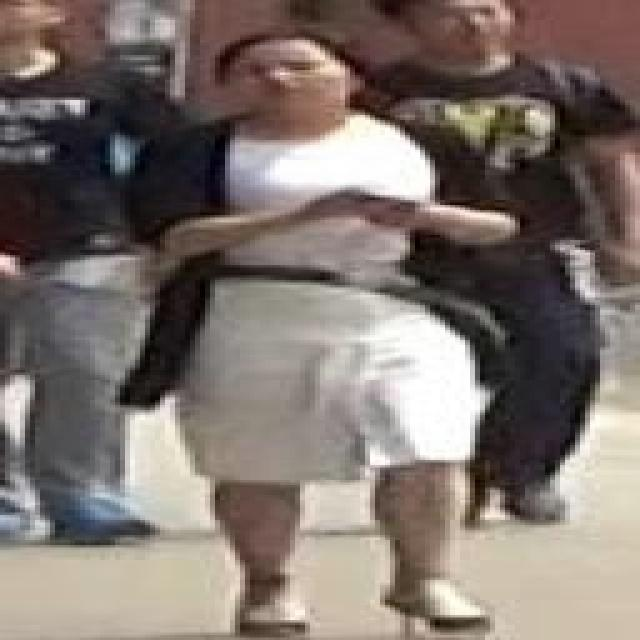adult: (139, 35, 509, 628), (360, 0, 640, 505), (0, 0, 172, 543)
